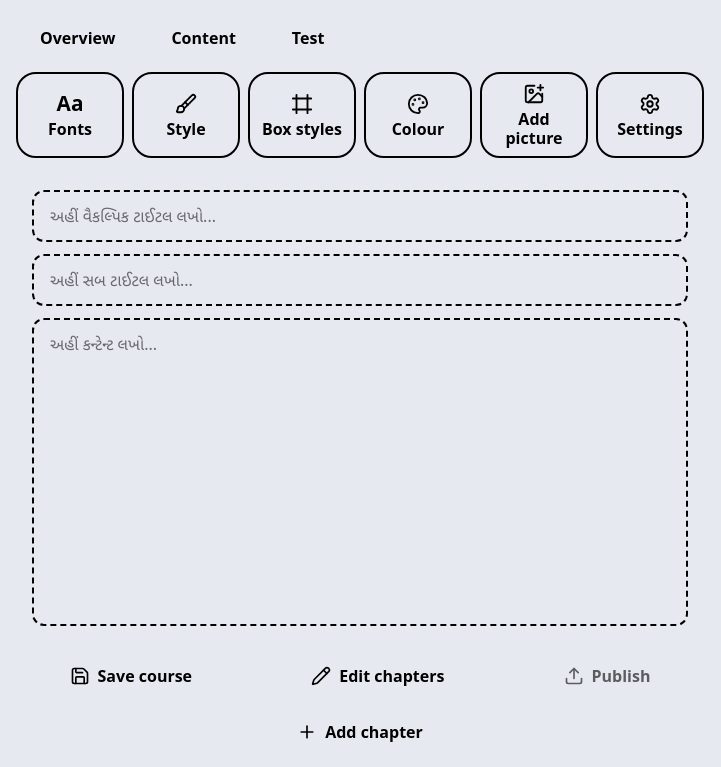
it: CourseWorkspace: what it shows › the Test part has the test editor and neither the toolbar, Edit nor Add chapter
Click the button "Test" at [308, 38], box [268,16,348,60]
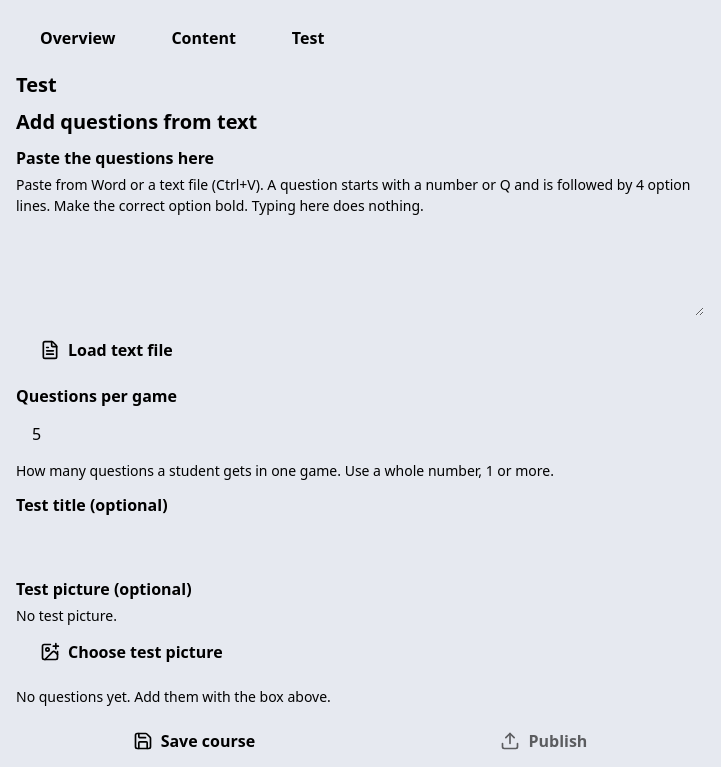
Expected: the button "Style" is gone
Expected: the button "Edit chapters" is gone
Expected: the button "Add chapter" is gone
